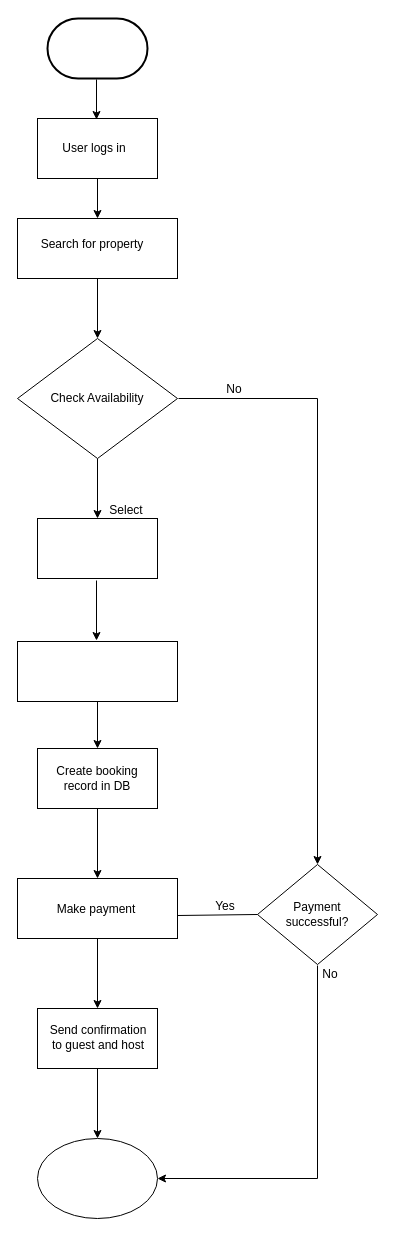
Some shapes in this 395 by 1236 pixel diagram are drawn without their labels. Here are the shapes that lost their labels. From the top down, the centre of each, then its label:
At point (97, 48): "Start".
At point (97, 548): "Select dates".
At point (97, 671): "Calculate price".
At point (97, 1178): "End".
